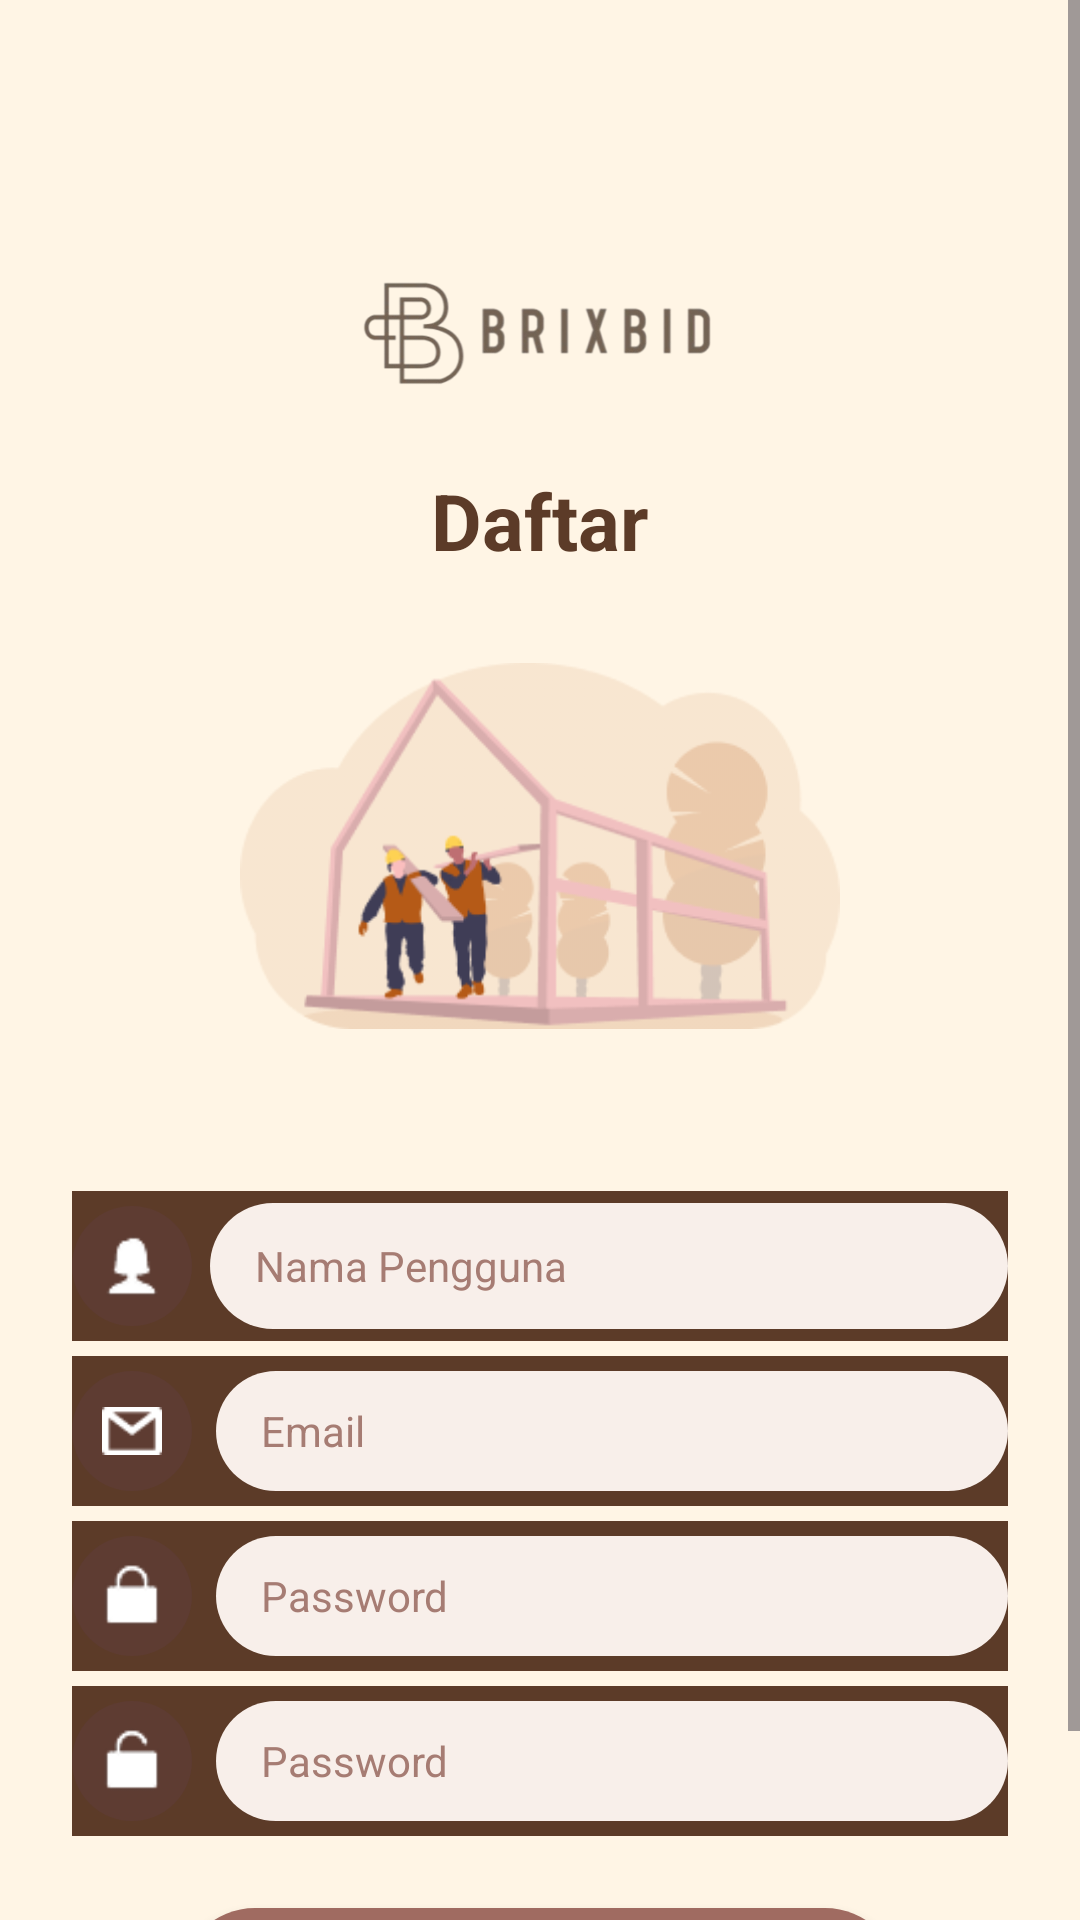

Named icons in this screenshot (1080px×1920px) and their bounding boxes, [x1, y1, x2, y2]:
lock: [106, 1565, 158, 1624]
user: [107, 1237, 157, 1295]
